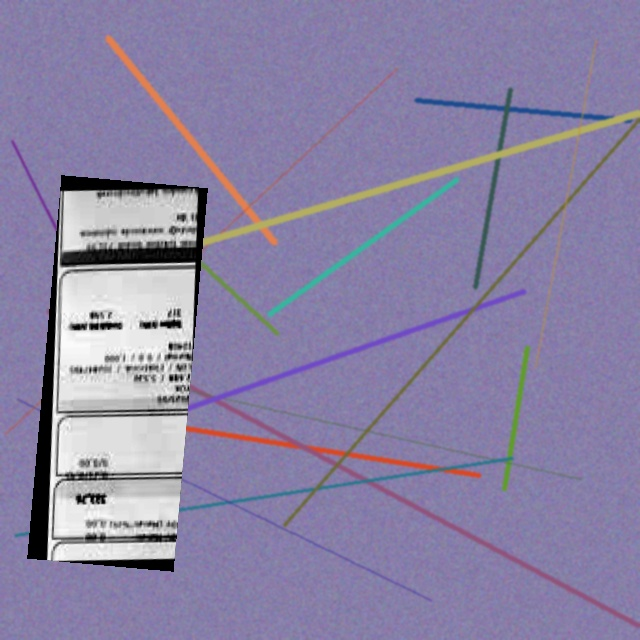electricity-bill: (26, 174, 207, 571)
